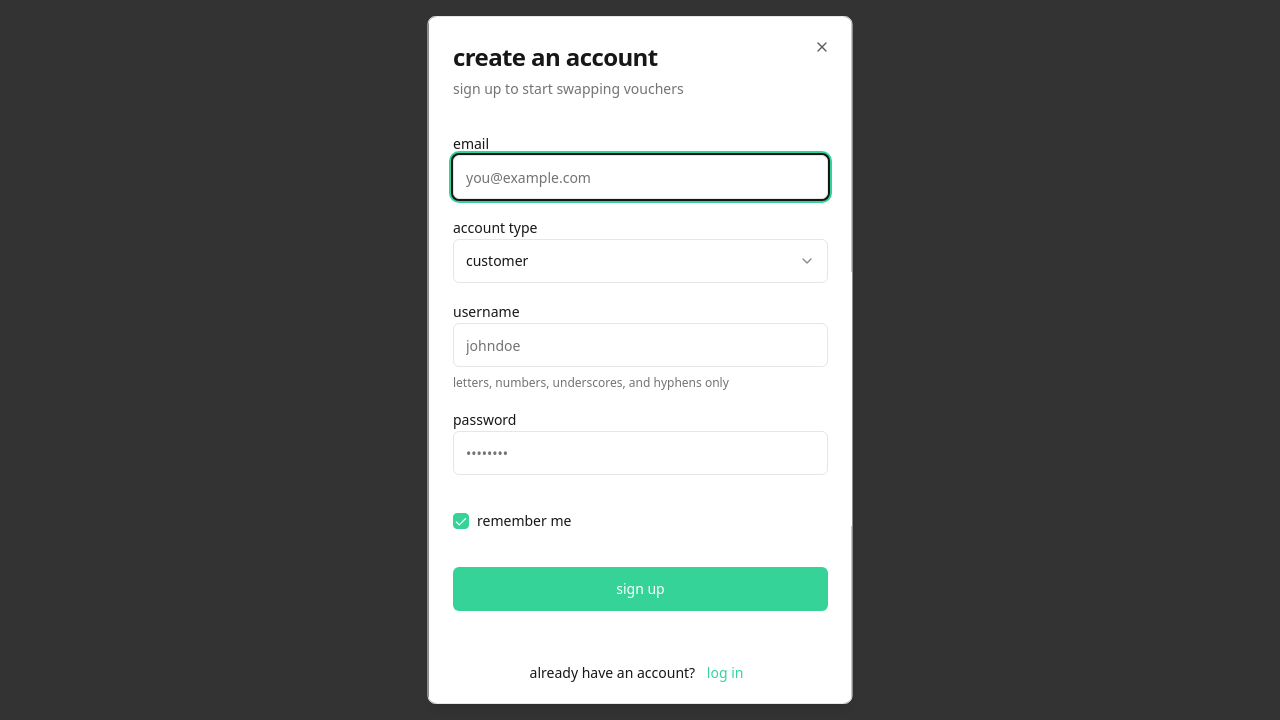
Test: AuthModal › shows organization fields only after choosing the business role
Expected: the field labelled "organization name" is not shown
Step 1. Click the dropdown named "account type" → (497, 260), box x1=452 y1=239 x2=828 y2=283
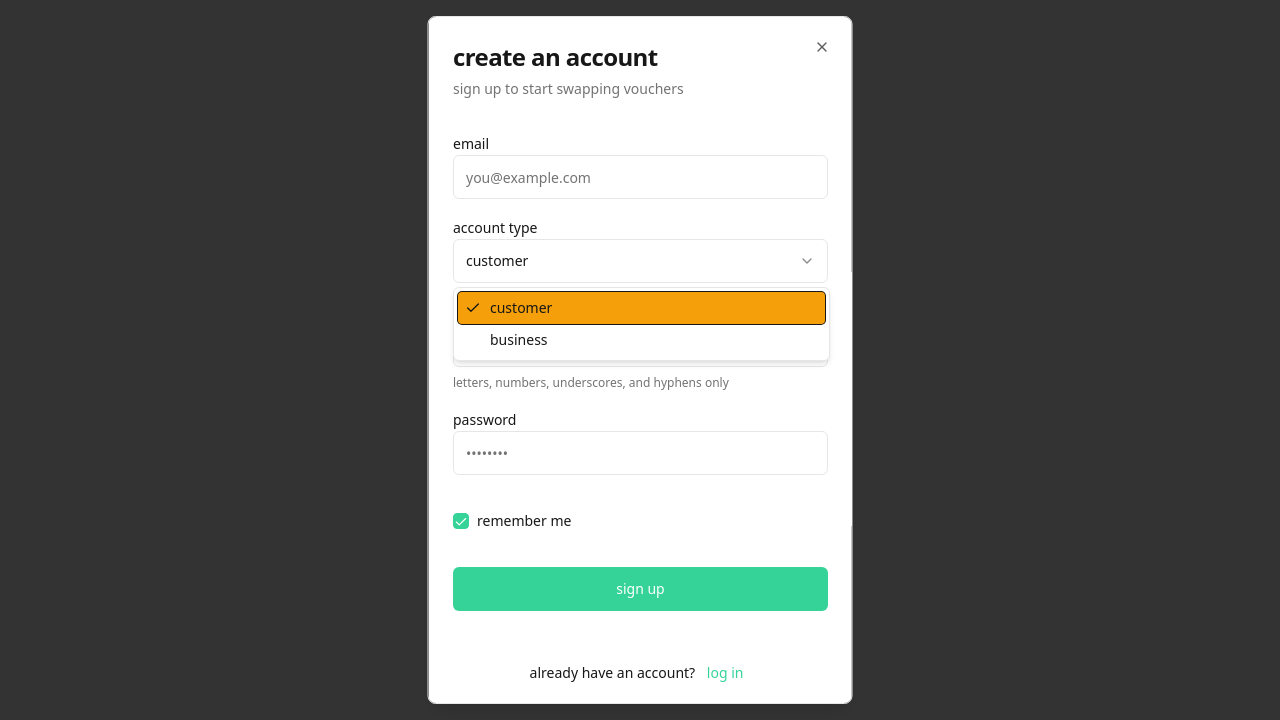
Step 2. Click the option "business" → (519, 340), box x1=490 y1=330 x2=548 y2=349
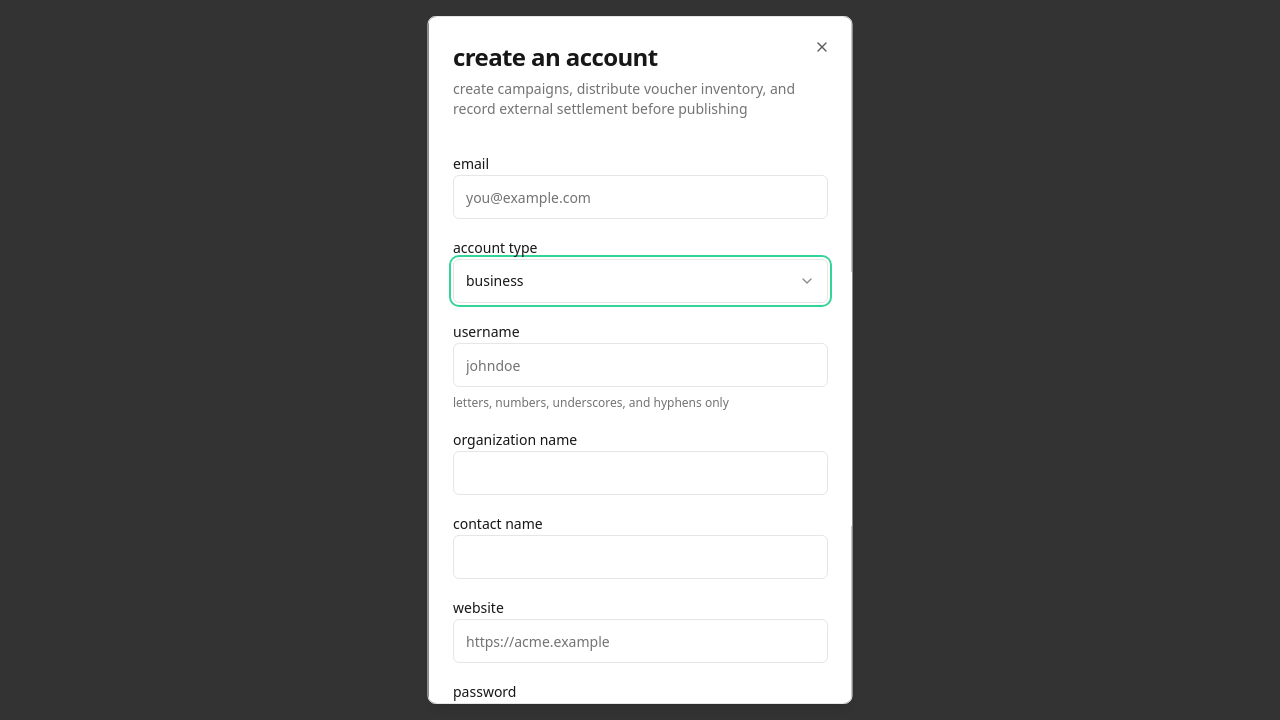
Now the field labelled "organization name" is shown, box x1=452 y1=451 x2=828 y2=495
Now the field labelled "contact name" is shown, box x1=452 y1=535 x2=828 y2=579
Now the field labelled "website" is shown, box x1=452 y1=619 x2=828 y2=663
